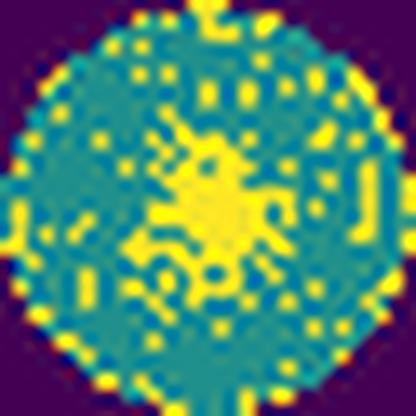Center: (125, 105, 298, 322)
